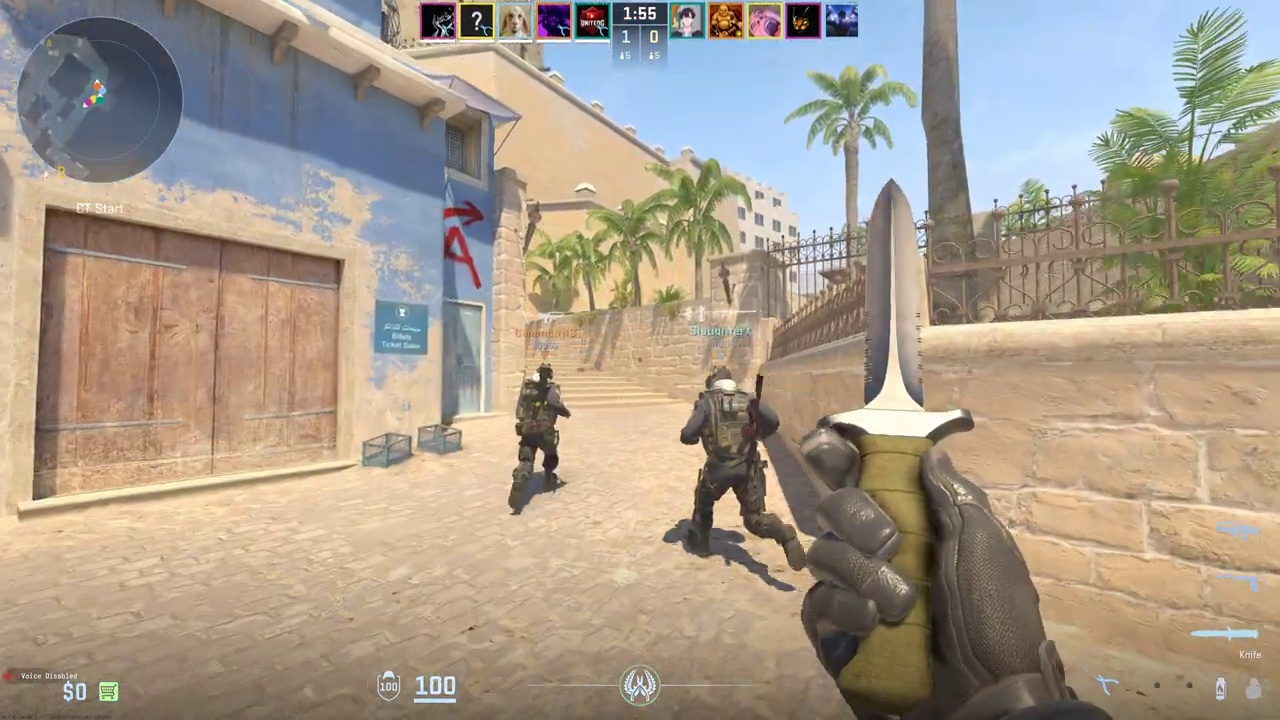CT: (679, 366, 793, 567), (510, 363, 569, 511)
